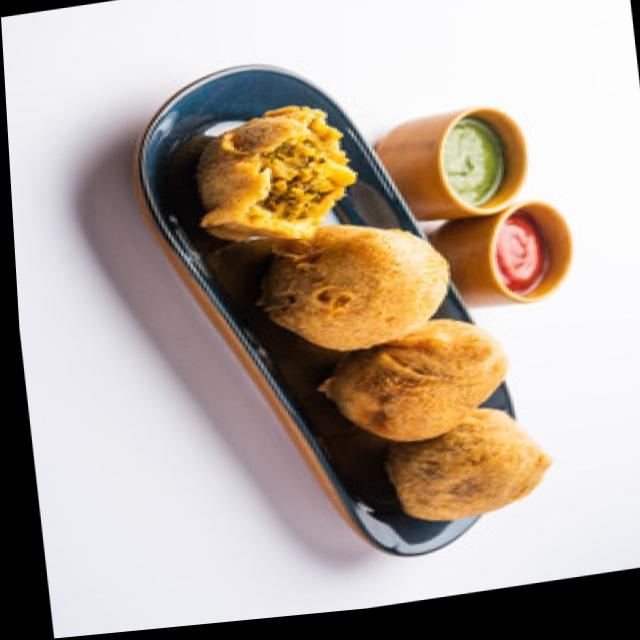BONDA: (199, 109, 553, 520)
GREEN CHUTNEY: (443, 116, 505, 206)
SAUCE: (497, 213, 549, 294)
